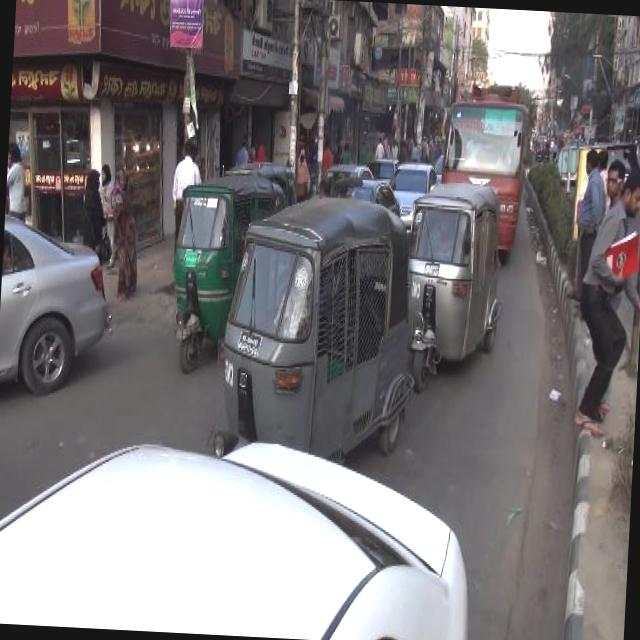bus: (438, 76, 536, 238)
car: (0, 202, 119, 406)
motorcycle: (208, 183, 424, 469), (164, 168, 290, 384), (400, 177, 510, 390), (224, 158, 296, 217)
